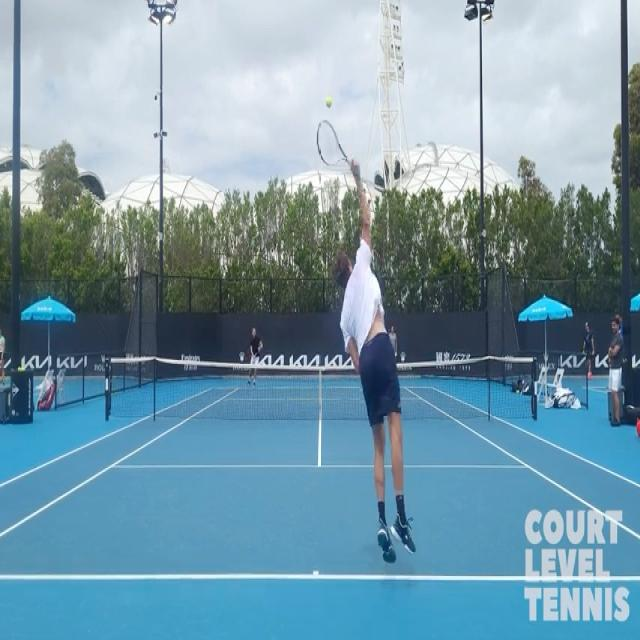serve_hit: (311, 115, 432, 564)
